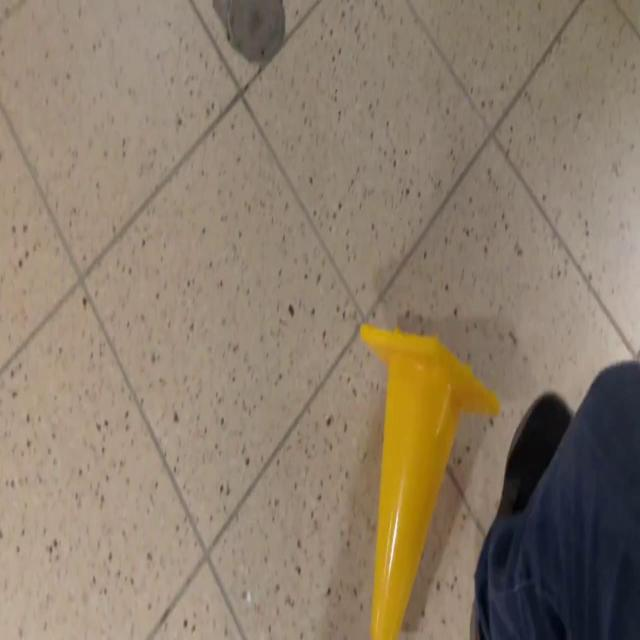frc_cone: (360, 322, 502, 640)
